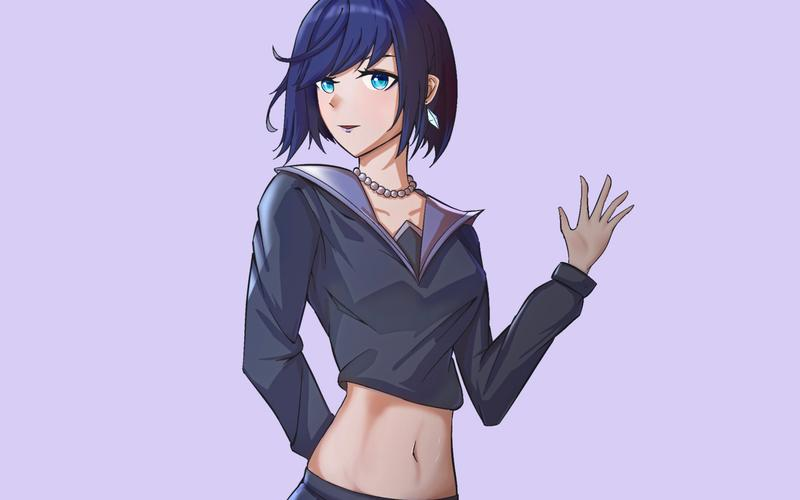夜兰: (238, 1, 634, 500)
